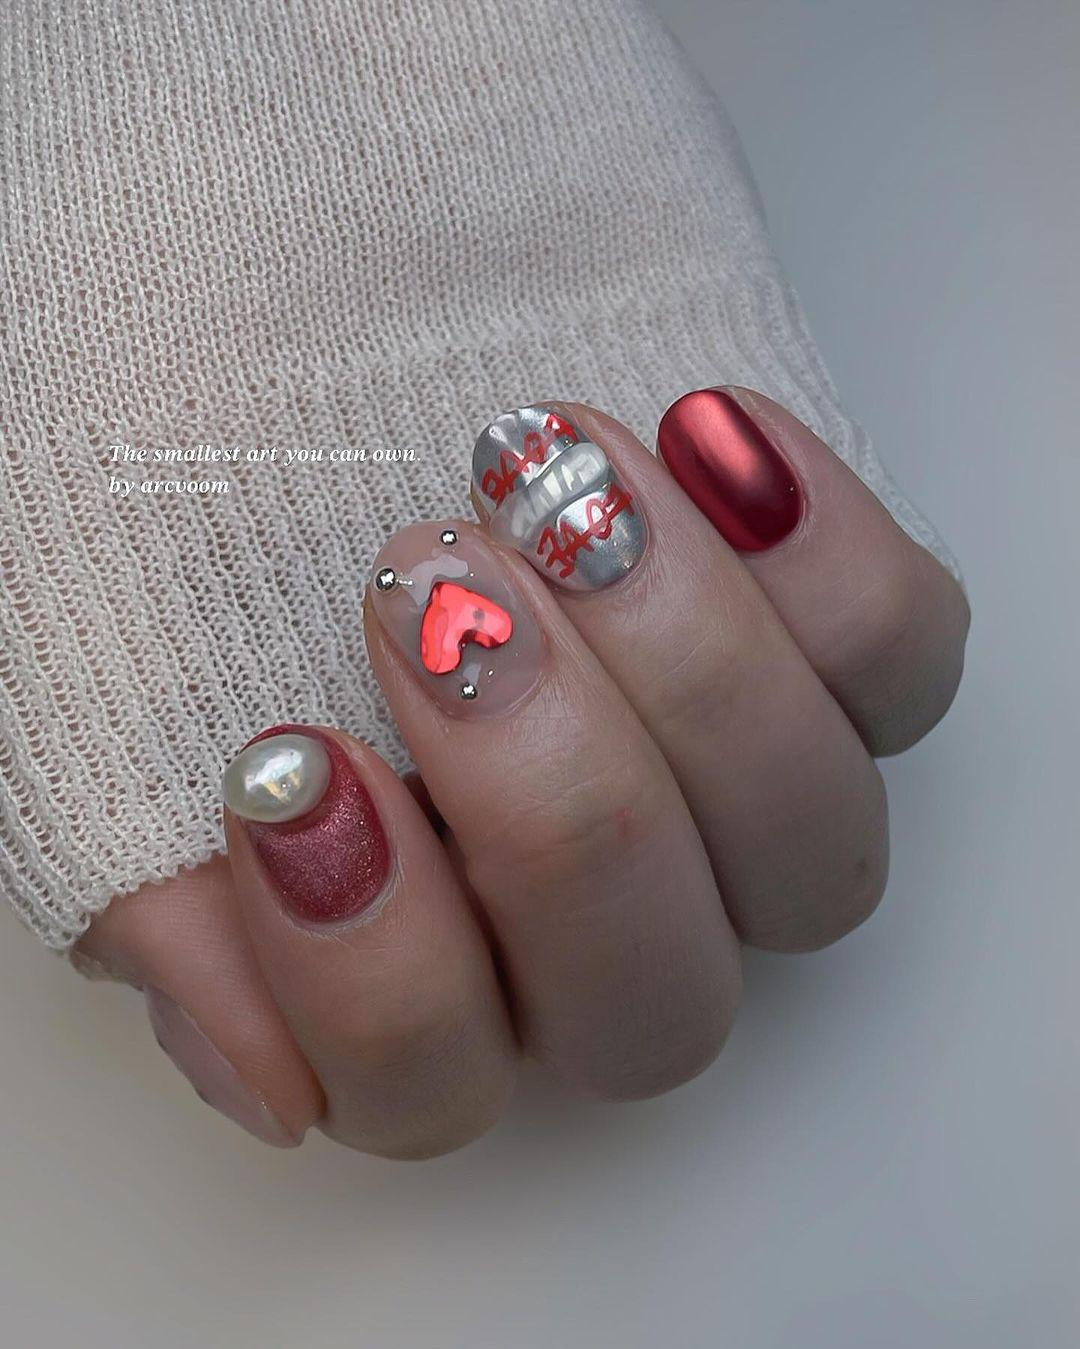nail: (219, 723, 396, 928), (468, 403, 648, 595), (374, 526, 546, 715), (655, 384, 808, 554)
